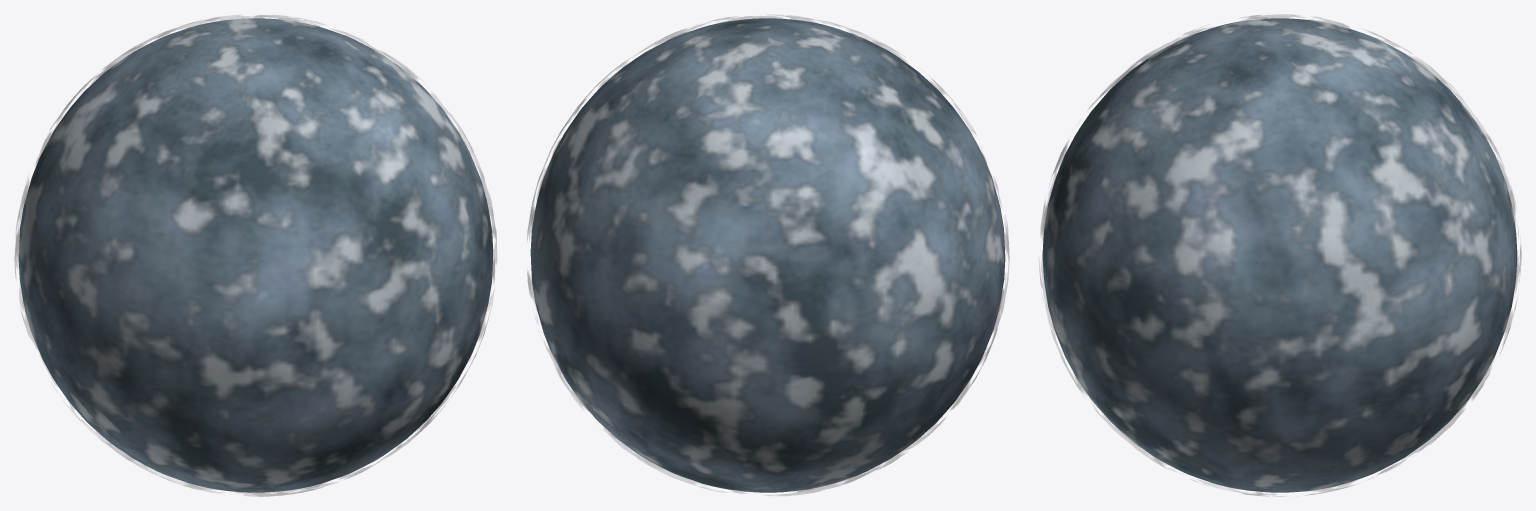
File: planet_ice_000.glb
3 views of the same model, side by side, from view 1: azimuth 30°, elevation 25°; view 2: azimuth 150°, elevation 25°; view 3: azimuth 270°, elevation 25° (orthographic).
Visible parts, largest first — view 1: Planet_ice_000, Clouds_ice_000; view 2: Planet_ice_000, Clouds_ice_000; view 3: Planet_ice_000, Clouds_ice_000.
Part boxes in pixels (bbox=[...]): Planet_ice_000: bbox=[18, 18, 493, 492]; Clouds_ice_000: bbox=[14, 15, 496, 496]; Planet_ice_000: bbox=[530, 18, 1005, 492]; Clouds_ice_000: bbox=[527, 14, 1009, 495]; Planet_ice_000: bbox=[1042, 18, 1517, 492]; Clouds_ice_000: bbox=[1039, 14, 1521, 496].
Bounding box in the file's own units: 2.04 × 2.04 × 2.04.
2 materials, 2 textured.
